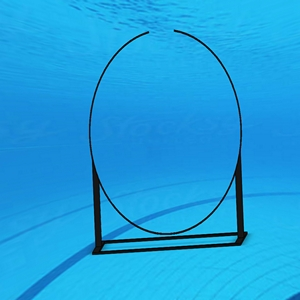circle: (86, 27, 251, 259)
